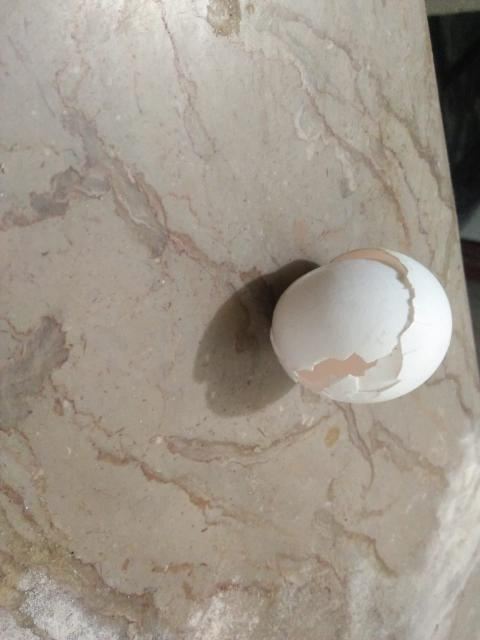Roto: (268, 246, 453, 404)
